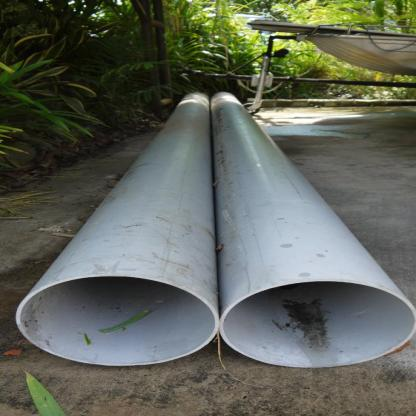PVC: (8, 91, 415, 371)
